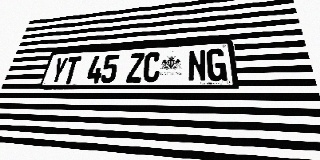4: (85, 55, 105, 83)
5: (100, 54, 120, 83)
C: (142, 52, 161, 83)
G: (206, 48, 227, 82)
N: (188, 49, 207, 82)
T: (62, 56, 82, 84)
Y: (49, 57, 69, 84)
Z: (126, 53, 145, 83)
